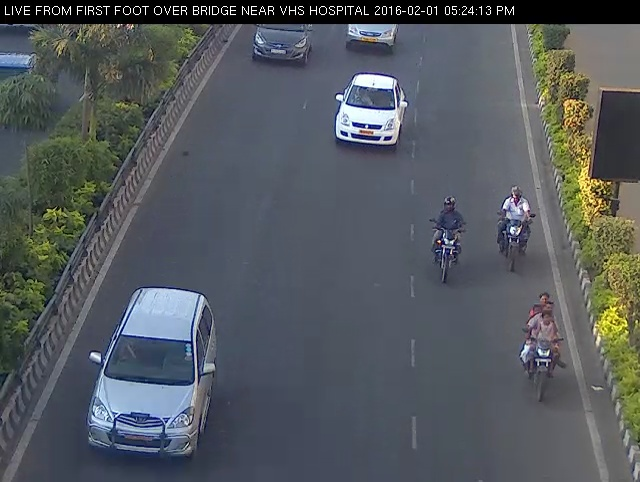Car: (83, 259, 221, 475), (322, 68, 418, 160), (236, 17, 322, 69), (338, 16, 400, 56)
Person: (509, 282, 577, 409), (423, 187, 472, 291), (493, 184, 538, 273)
